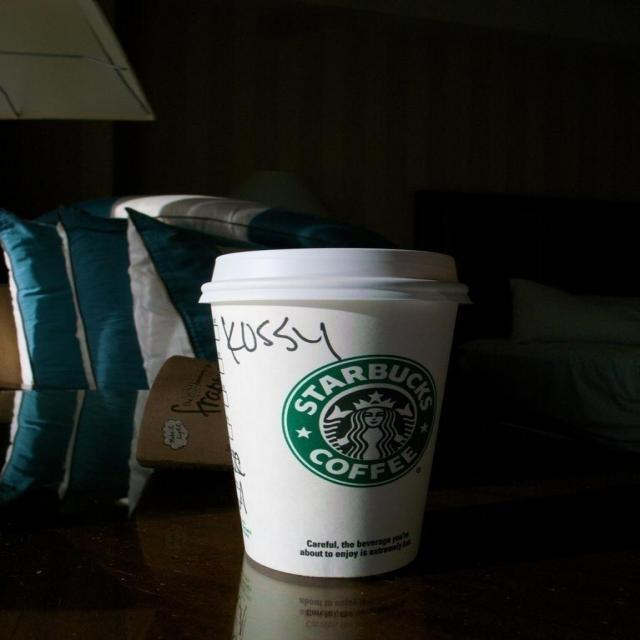cup-disposable: (198, 246, 460, 580)
